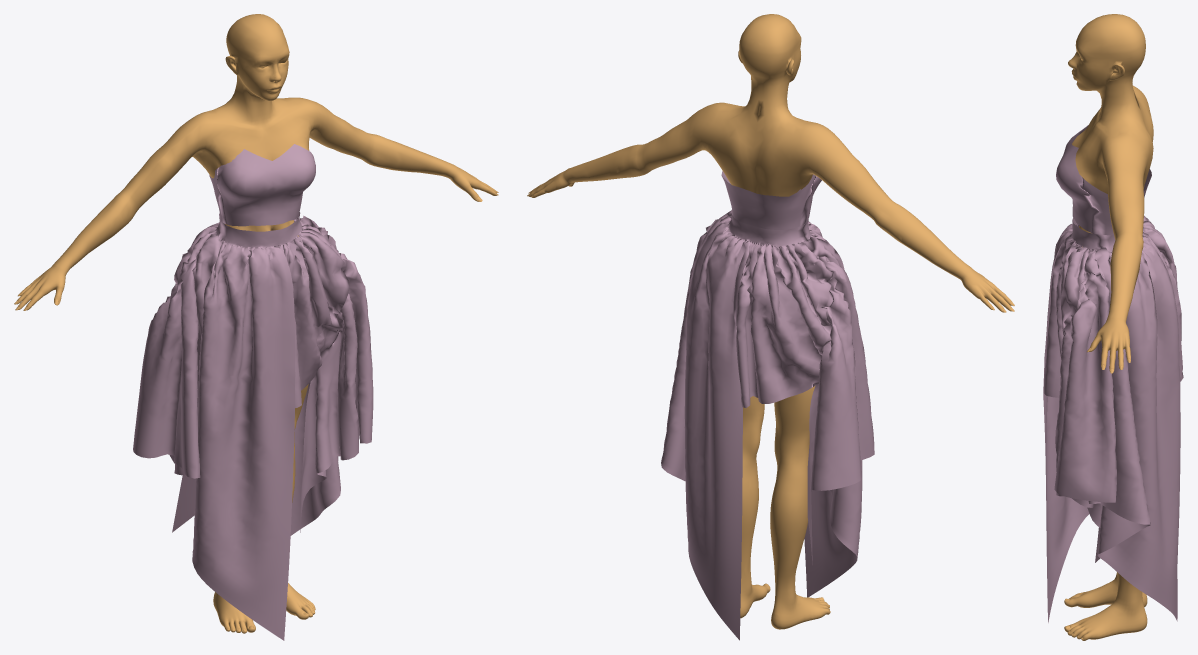
The model's file is dress8.glb.
3 views of the same model, side by side, from view 1: azimuth 30°, elevation 25°; view 2: azimuth 150°, elevation 25°; view 3: azimuth 270°, elevation 25° (orthographic).
Parts seen in each view (by area): view 1: Project 1, Body; view 2: Project 1, Body; view 3: Project 1, Body.
Boxes of the visible parts, x1,y1,x2,y2 form: Project 1: (133, 144, 373, 640); Body: (16, 14, 498, 633); Project 1: (661, 171, 874, 640); Body: (528, 14, 1011, 629); Project 1: (1043, 125, 1183, 622); Body: (1064, 14, 1153, 640).
Size of the model in its own units: 1.58 by 1.87 by 0.3896.
